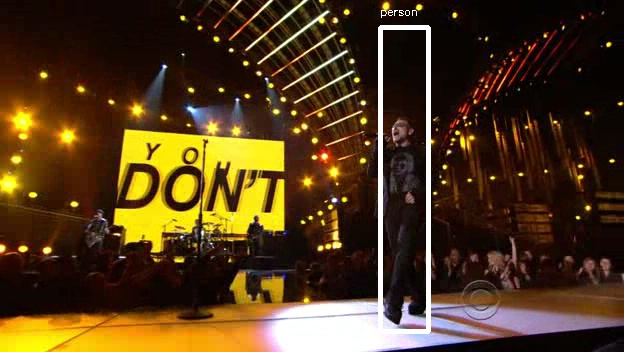person: (370, 116, 436, 223), (367, 116, 433, 223), (373, 116, 439, 223), (370, 113, 436, 220), (370, 119, 436, 226)
target_negative: (77, 161, 363, 270), (309, 62, 492, 213), (188, 230, 412, 333), (499, 95, 615, 281), (609, 194, 616, 305), (608, 261, 611, 265)
